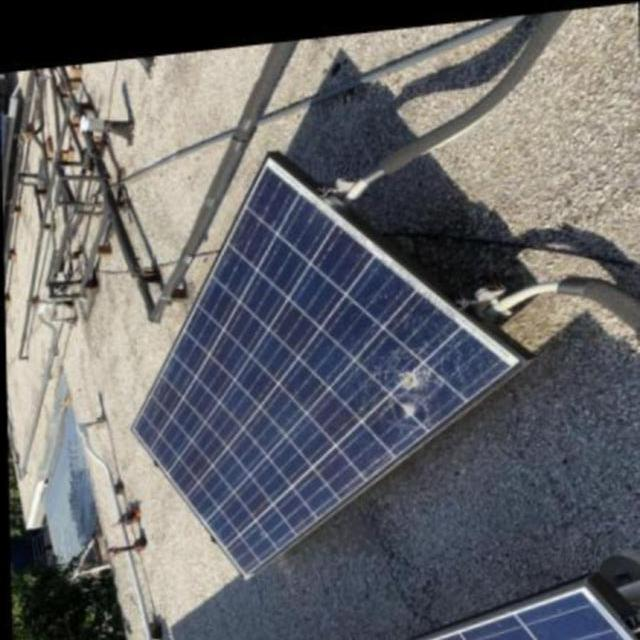cracked: (131, 152, 524, 586)
